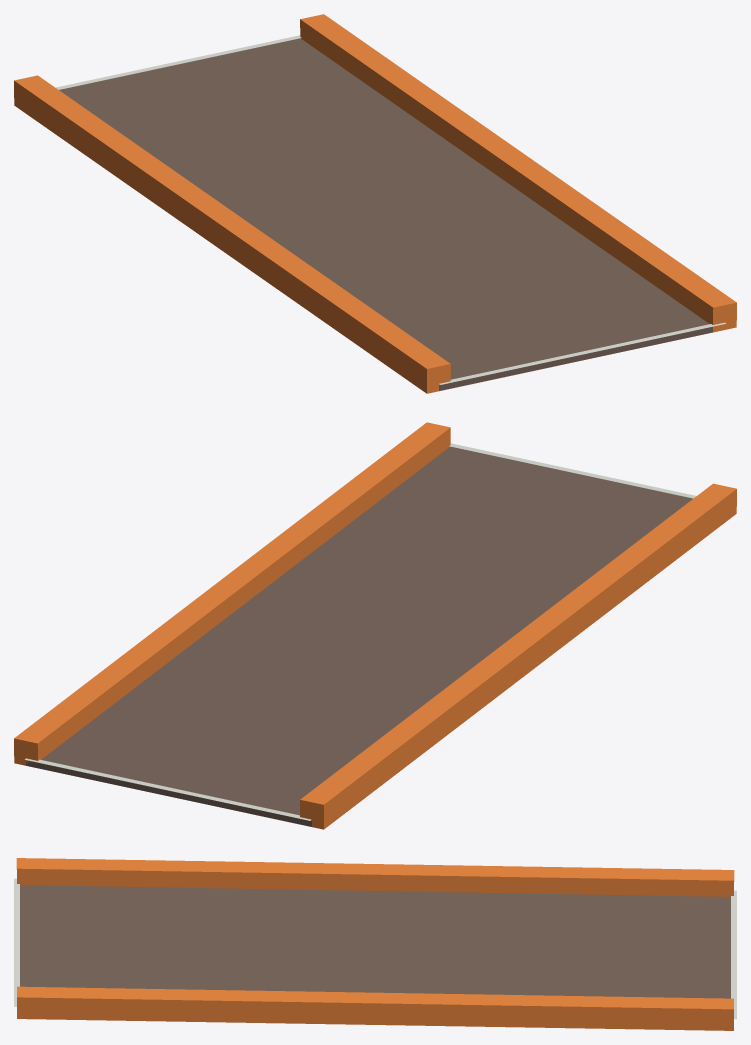
The model's file is SM_MP_Film_B_1_0.fbx.
3 renders of one model, top to bottom at view 1: azimuth 30°, elevation 25°; view 2: azimuth 150°, elevation 25°; view 3: azimuth 270°, elevation 25°, orthographic. The views are drawn at different scales.
Parts seen in each view (by area): view 1: SM_MP_Film_B_1_0; view 2: SM_MP_Film_B_1_0; view 3: SM_MP_Film_B_1_0.
Boxes of the visible parts, bbox=[...] form: SM_MP_Film_B_1_0: bbox=[14, 14, 736, 393]; SM_MP_Film_B_1_0: bbox=[14, 422, 736, 829]; SM_MP_Film_B_1_0: bbox=[14, 858, 736, 1030].
Size of what is drawn, in the model's own units: 260 by 605 by 38.49.
